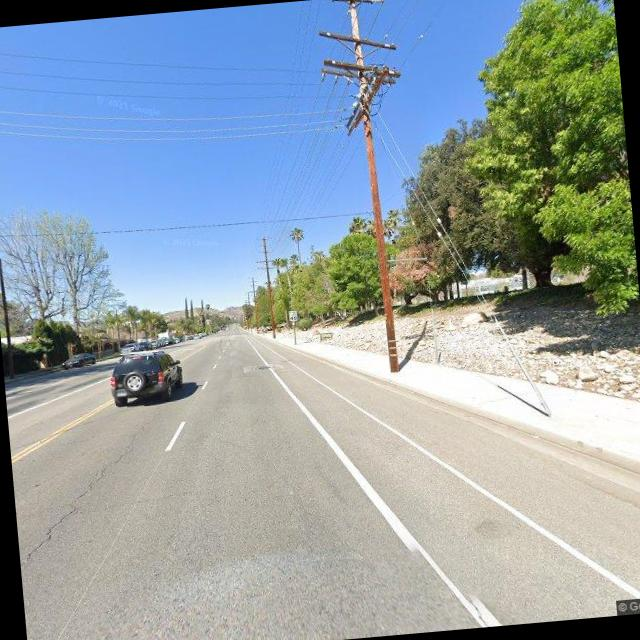crack: (14, 416, 162, 553)
